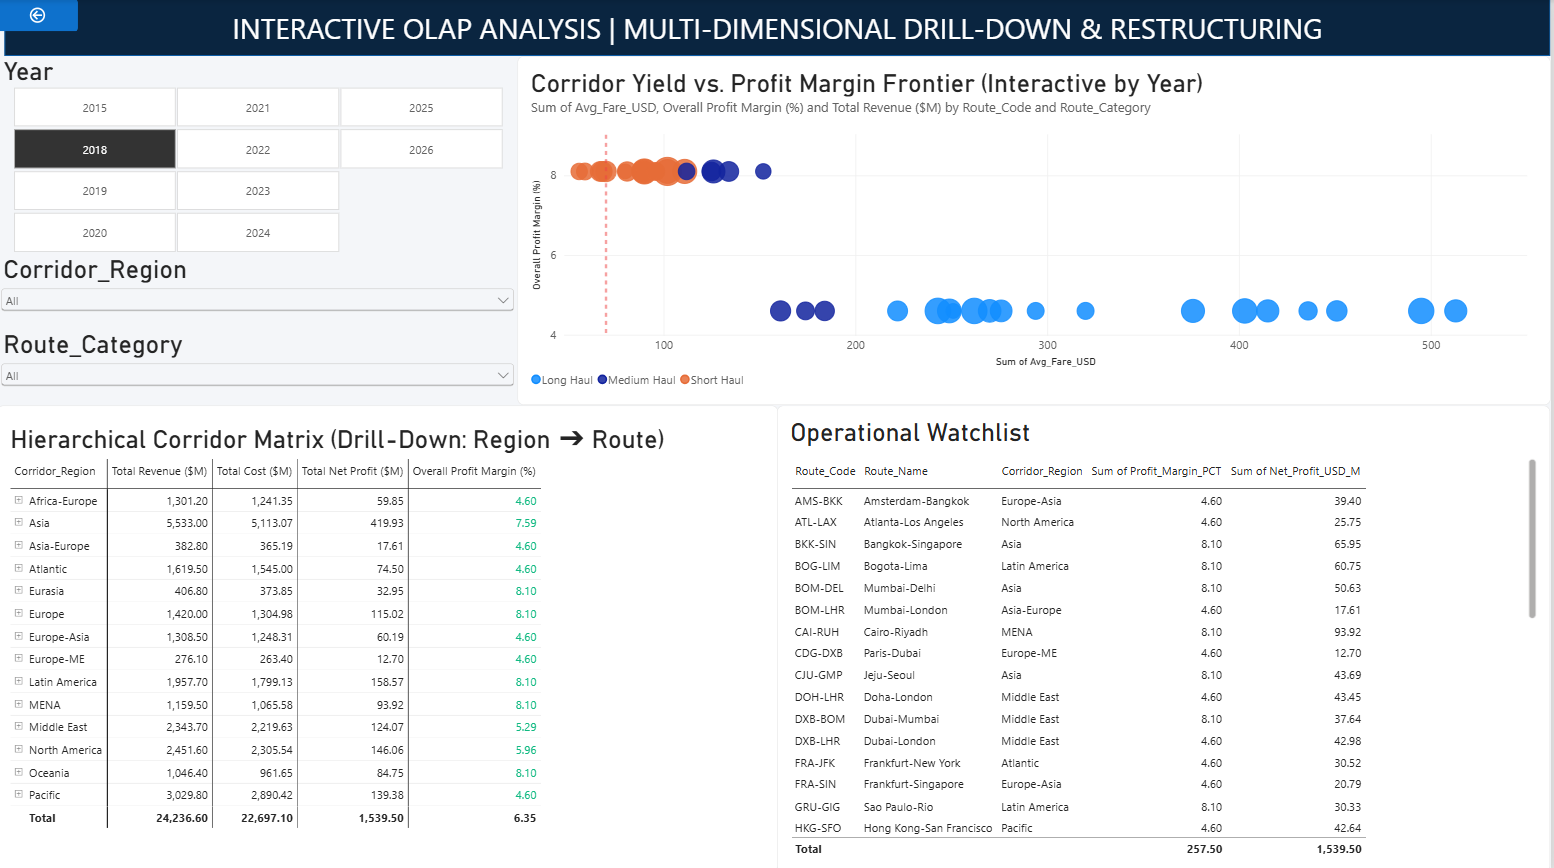

The dashboard page shown, as its layout file describes it:
{"tool":"powerbi","page":{"name":"3. Interactive Analysis","canvas":[1920,1080],"ordinal":2},"visuals":[{"type":"shape","box":[9.1,0,1910.2,70.4],"z":0},{"type":"slicer","fields":{"Values":["Dim_Date.Year"]},"box":[0,70.9,643.5,243.8],"z":1000},{"type":"slicer","fields":{"Values":["Dim_Route.Corridor_Region"]},"box":[0,314.6,643.5,93.5],"z":2000},{"type":"slicer","fields":{"Values":["Dim_Route.Route_Category"]},"box":[0,408.2,643.5,150.2],"z":3000},{"type":"pivotTable","title":"Hierarchical Corridor Matrix (Drill-Down: Region ➔ Route)","fields":{"Rows":["Dim_Route.Corridor_Region","Dim_Route.Route_Name"],"Values":["Fact_Route_Performance.Total Revenue ($M)","Fact_Route_Performance.Total Cost ($M)","Fact_Route_Performance.Total Net Profit ($M)","Fact_Route_Performance.Overall Profit Margin (%)"]},"box":[0,502,965.3,576.9],"z":4000},{"type":"scatterChart","title":"Corridor Yield vs. Profit Margin Frontier (Interactive by Year)","fields":{"Category":["Dim_Route.Route_Code"],"Series":["Dim_Route.Route_Category"],"Size":["Fact_Route_Performance.Total Revenue ($M)"],"X":["Sum(Fact_Route_Performance.Avg_Fare_USD)"],"Y":["Fact_Route_Performance.Overall Profit Margin (%)"]},"box":[642.8,70.4,1276.5,431.5],"z":5000},{"type":"tableEx","title":"Operational Watchlist","fields":{"Values":["Dim_Route.Route_Code","Dim_Route.Route_Name","Dim_Route.Corridor_Region","Sum(Fact_Route_Performance.Profit_Margin_PCT)","Sum(Fact_Route_Performance.Net_Profit_USD_M)"]},"box":[963.8,501.7,955.3,578.3],"z":6000},{"type":"actionButton","box":[0,0,100,40],"z":7000}]}

Visuals, with their boxes in screenshot pixels (x1, y1, x2, y2), scaled from the page's 1920x1080 canvas onto the 1554x868 screenshot:
shape: box=[7, 0, 1553, 57]
slicer - Dim_Date.Year: box=[0, 57, 521, 253]
slicer - Dim_Route.Corridor_Region: box=[0, 253, 521, 328]
slicer - Dim_Route.Route_Category: box=[0, 328, 521, 449]
"Hierarchical Corridor Matrix (Drill-Down: Region ➔ Route)" pivotTable: box=[0, 403, 781, 867]
"Corridor Yield vs. Profit Margin Frontier (Interactive by Year)" scatterChart: box=[520, 57, 1553, 403]
"Operational Watchlist" tableEx: box=[780, 403, 1553, 867]
actionButton: box=[0, 0, 81, 32]
